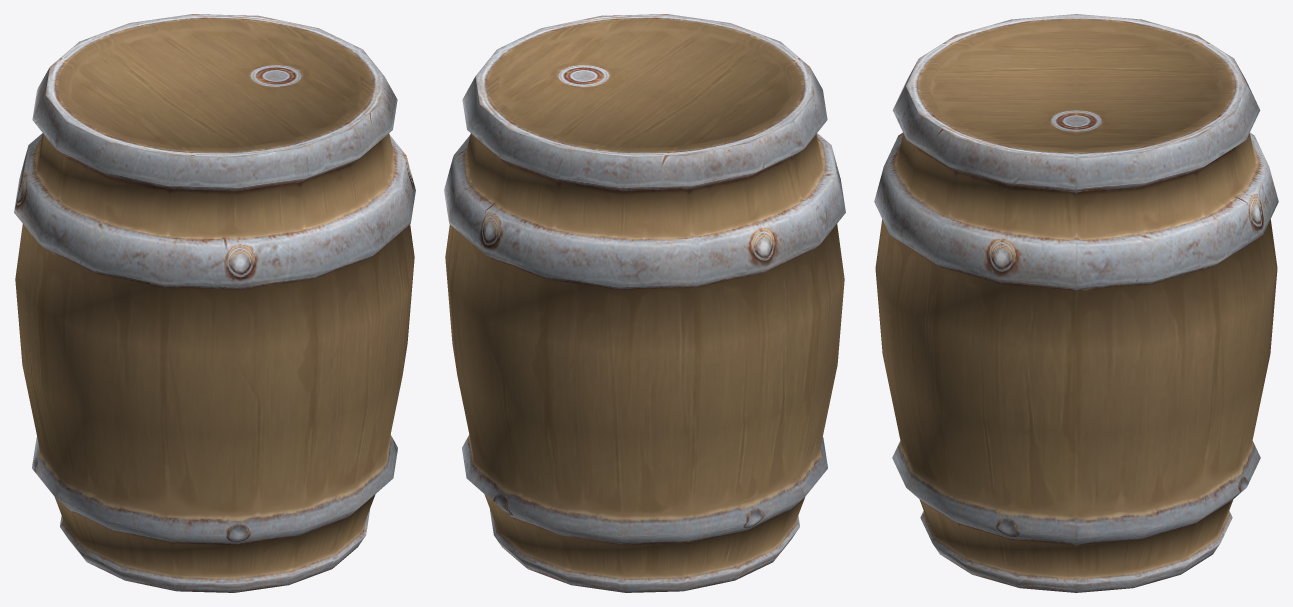
Rendered from bucket.glb.
3 views of the same model, side by side, from view 1: azimuth 30°, elevation 25°; view 2: azimuth 150°, elevation 25°; view 3: azimuth 270°, elevation 25° (orthographic).
Visible parts, largest first — view 1: Props_XSC_54_01; view 2: Props_XSC_54_01; view 3: Props_XSC_54_01.
Part boxes in pixels (x1,y1,x2,y2): Props_XSC_54_01: (14,14,415,592); Props_XSC_54_01: (444,14,845,592); Props_XSC_54_01: (874,14,1278,592).
Bounding box in the file's own units: 0.7844 × 0.9506 × 0.7844.
Materials: 1 (1 with a texture image).
